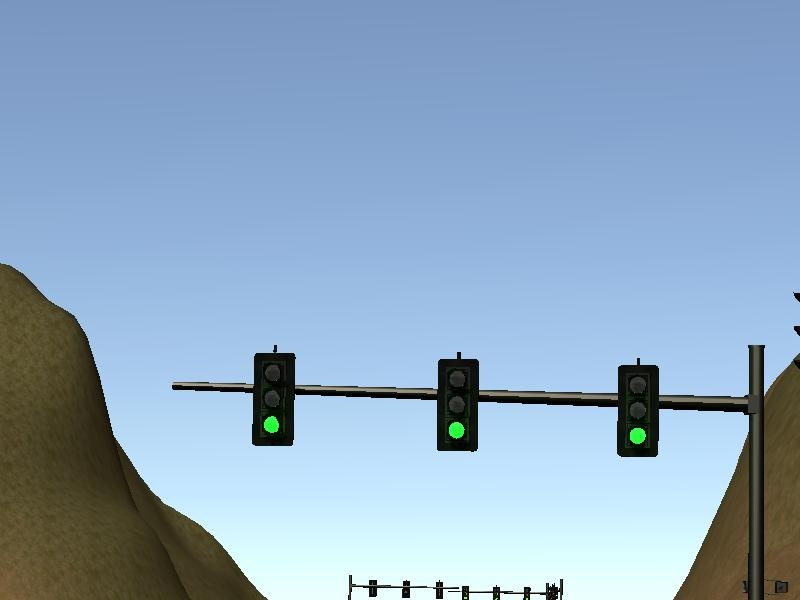green: (254, 353, 295, 446), (438, 359, 479, 452), (618, 365, 659, 458)
